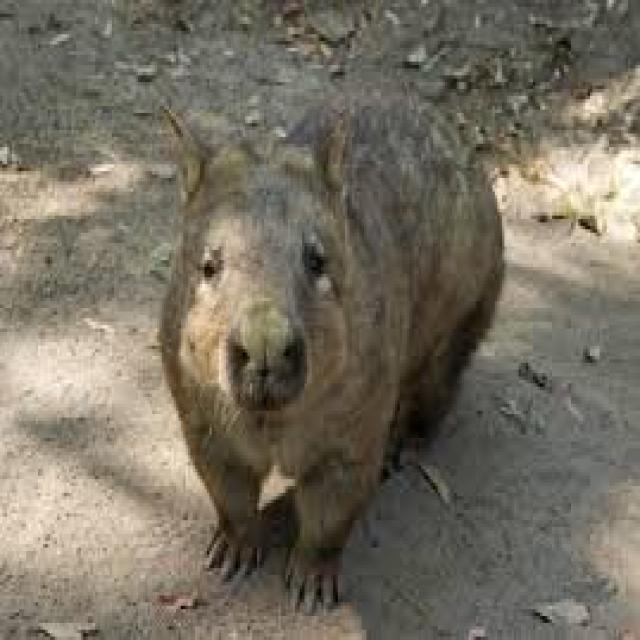Wombat: (145, 71, 509, 610)
